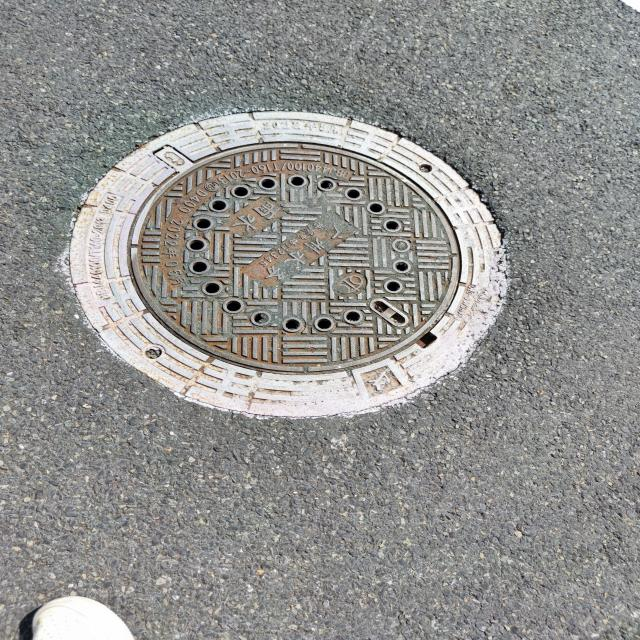Good: (61, 108, 519, 421)
